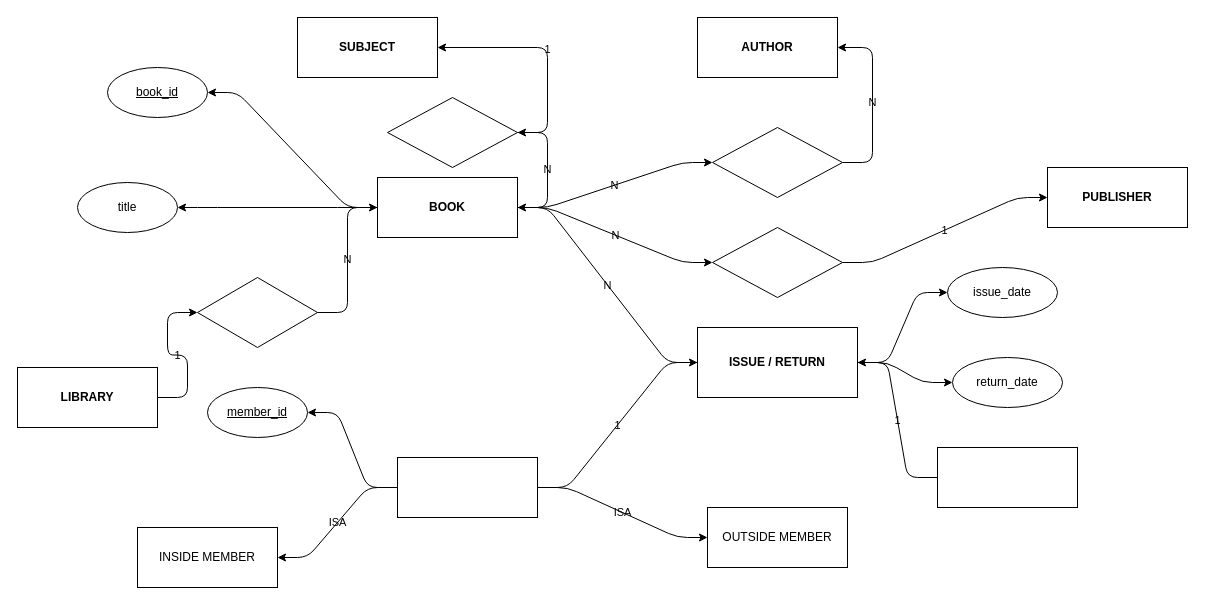
Some shapes in this 1205 by 605 pixel diagram are drawn without their labels. The centre of each missing label's shape, as x and y in pixels:
classified as: point (452, 132)
contains: point (257, 312)
LIBRARIAN: point (1007, 477)
MEMBER: point (467, 487)
published by: point (777, 262)
written by: point (777, 162)
